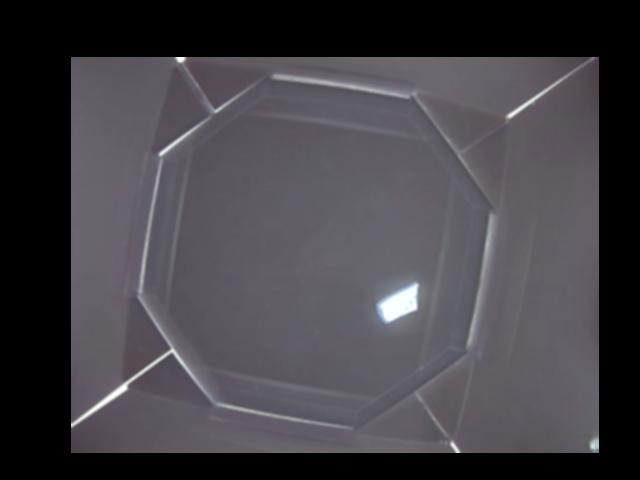China: (374, 277, 425, 323)
